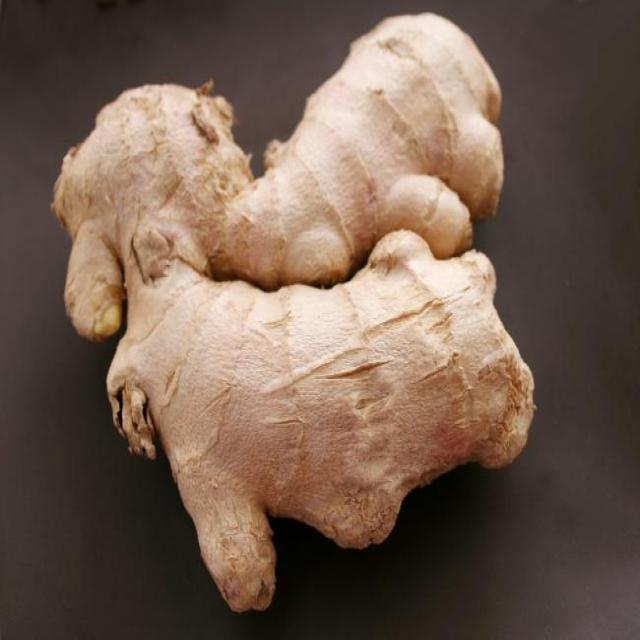ginger-root: (27, 0, 590, 640)
